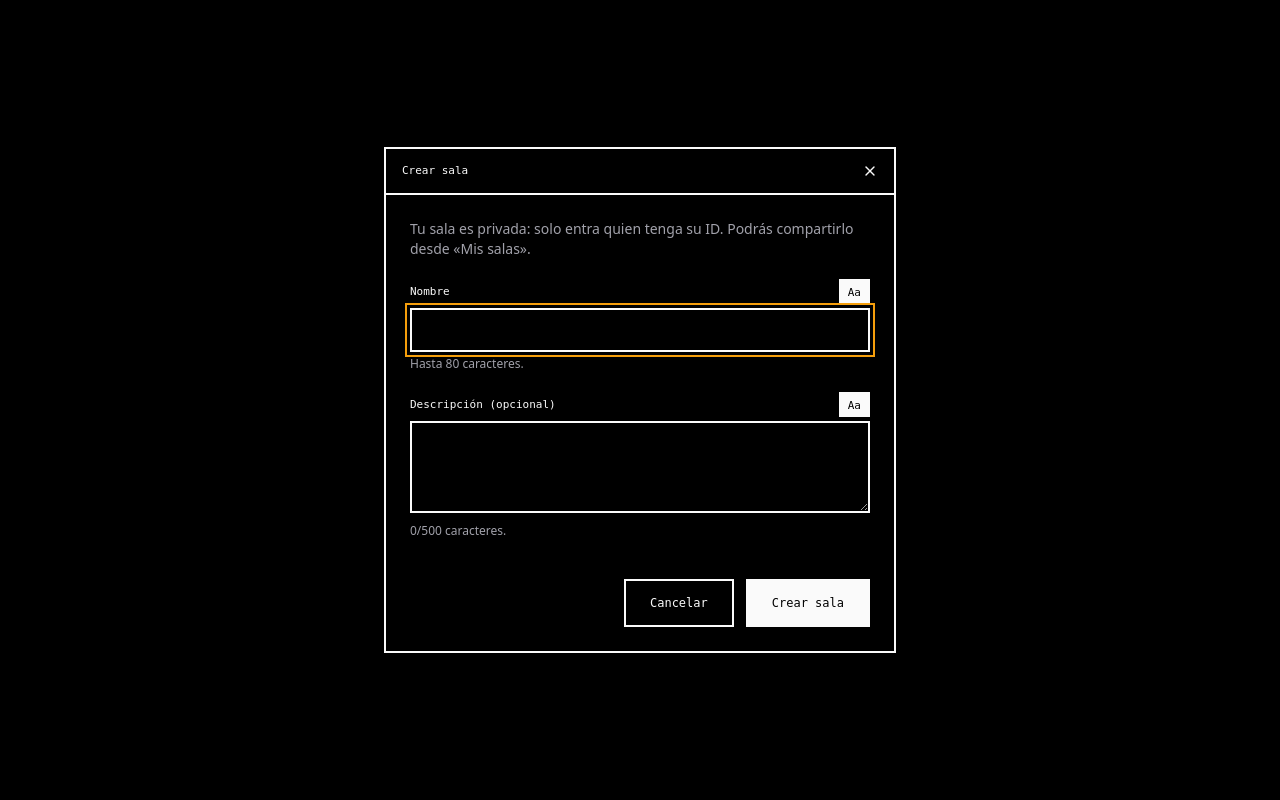
Scenario: DialogoCrearSala (US-06) › no deja crear sin nombre y lo explica junto al campo
The width and height of the screenshot is (1280, 800).
Click the button "Crear sala".
click(808, 603)  # box [746,579,870,627]
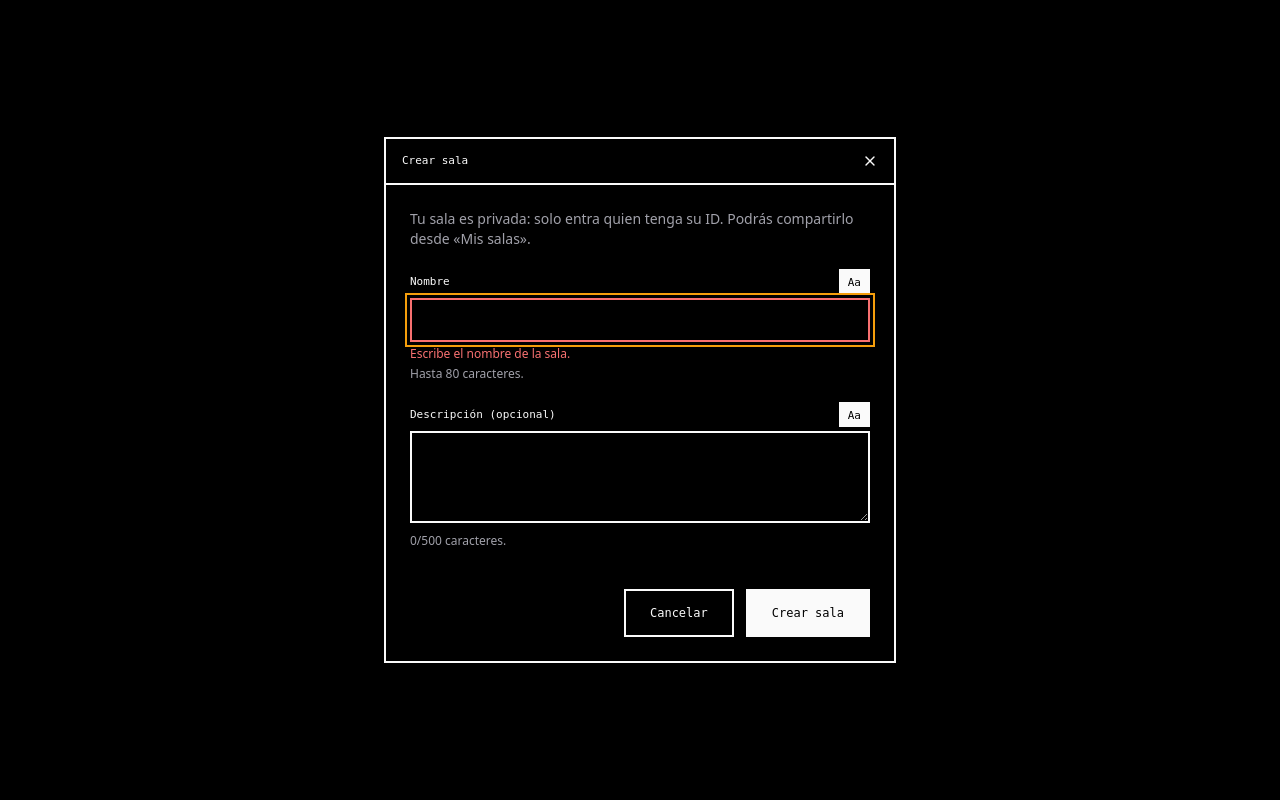
Check: the text "Escribe el nombre de la sala." is shown, box [410,345,570,362]
